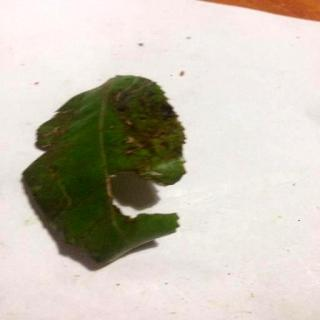Red Leaf Spot: (23, 75, 187, 267)
